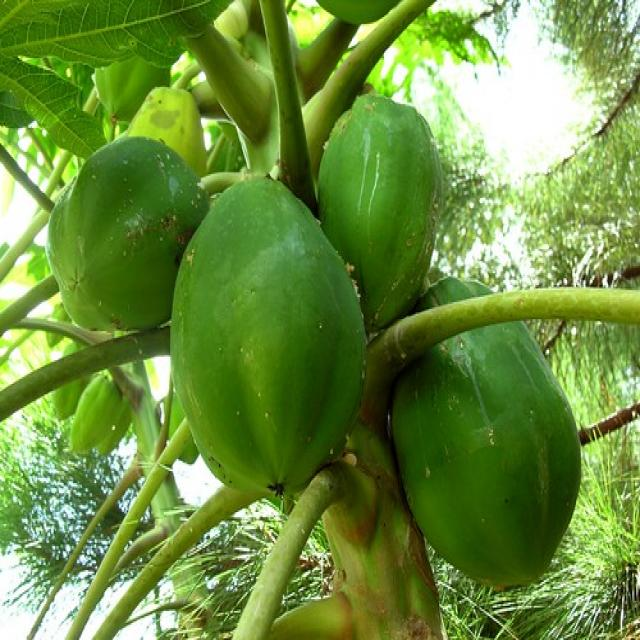Pepaya unrippen: (388, 266, 598, 591), (170, 165, 360, 495), (44, 133, 206, 347), (318, 104, 442, 311)
